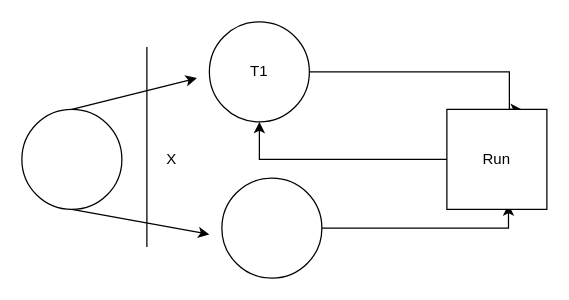
The diagram is 569 pixels wide and 300 high, and some of its shapes have lost their labels. The centre of each missing label's shape, as x and y in pixels:
"main" goes at (x=71, y=158).
"T2" goes at (x=271, y=227).
